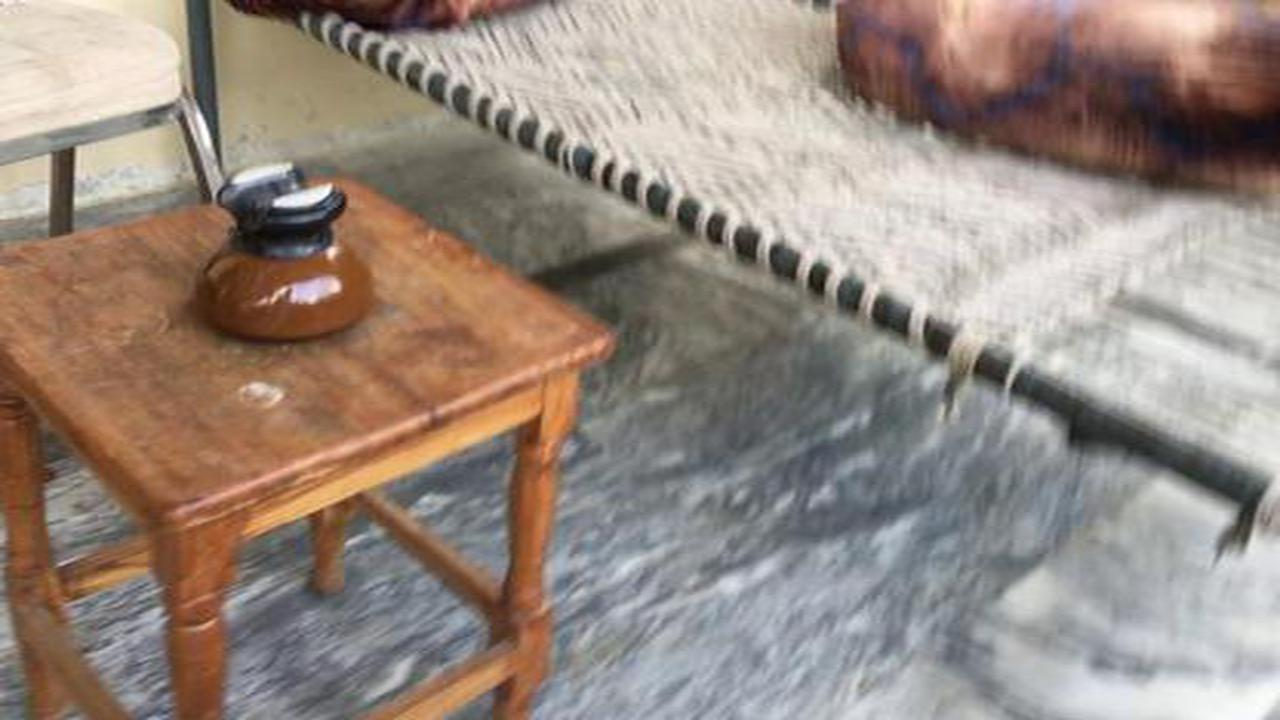insulator_pin: (176, 149, 394, 354)
